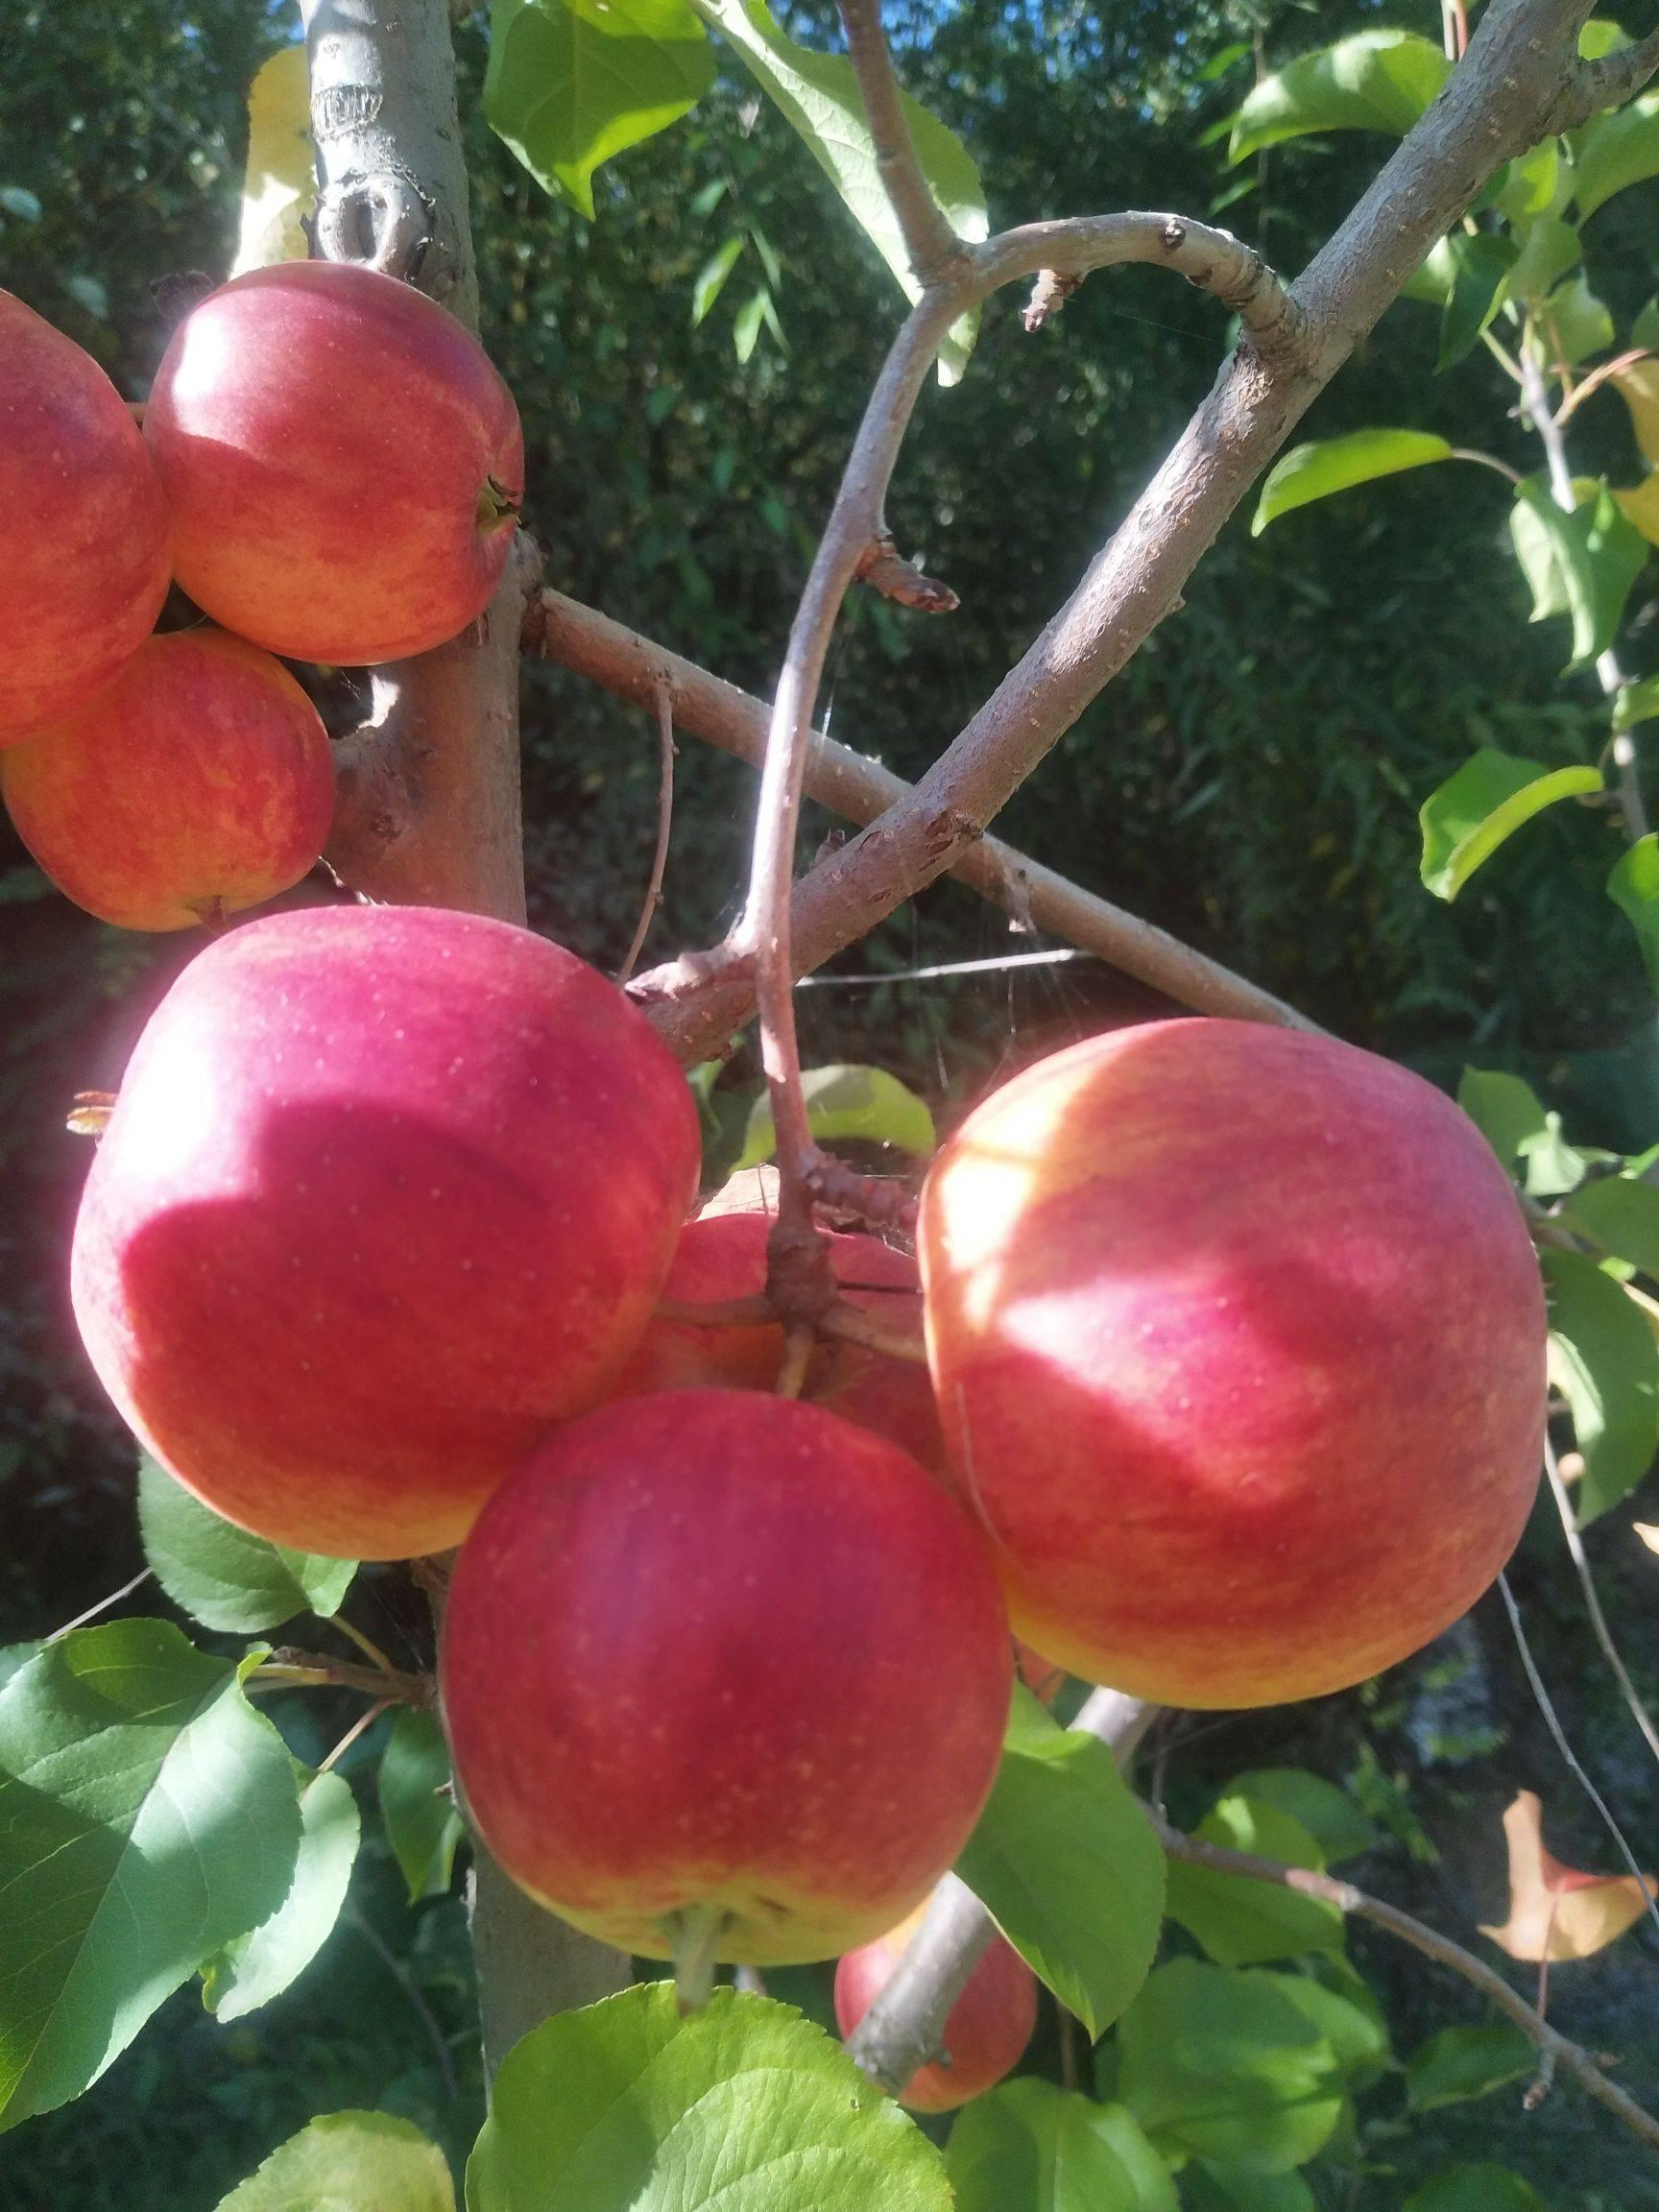apple: (901, 1010, 1539, 1693), (64, 899, 713, 1543), (439, 1338, 1023, 1963), (159, 268, 532, 669), (10, 624, 328, 923)
